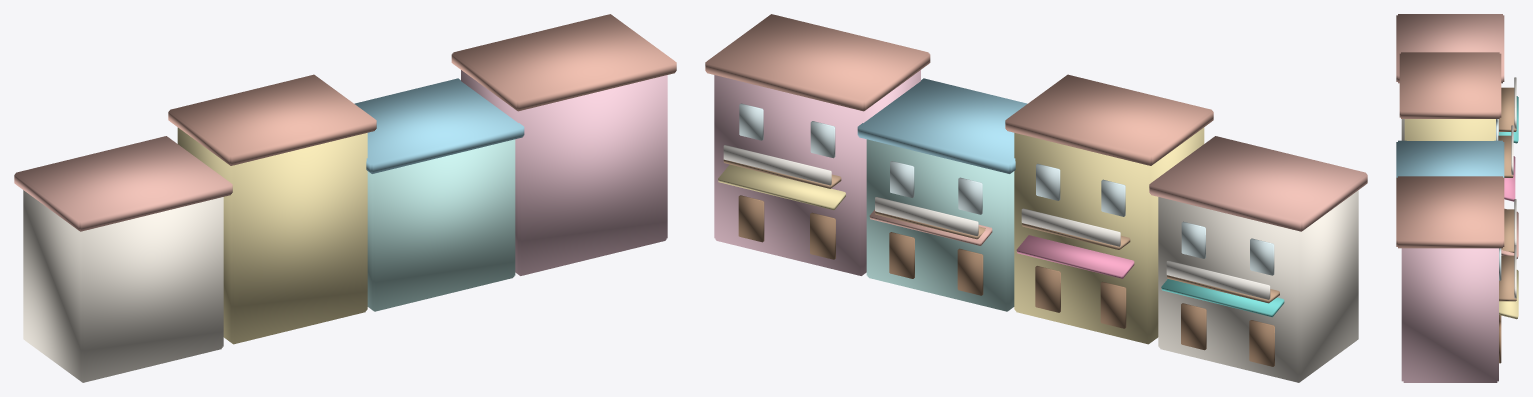
Rendered from CoastalFacadeRow.fbx.
3 renders of one model, left to right at view 1: azimuth 30°, elevation 25°; view 2: azimuth 150°, elevation 25°; view 3: azimuth 270°, elevation 25°, orthographic. The views are drawn at different scales.
Parts seen in each view (by area): view 1: CoastalFacadeRow; view 2: CoastalFacadeRow; view 3: CoastalFacadeRow.
Part boxes in pixels (box(x1,y1,x2,y2)): CoastalFacadeRow: box(14, 14, 676, 382); CoastalFacadeRow: box(705, 14, 1367, 382); CoastalFacadeRow: box(1396, 14, 1518, 382).
Bounding box in the file's own units: 18.45 × 5.73 × 4.02.
